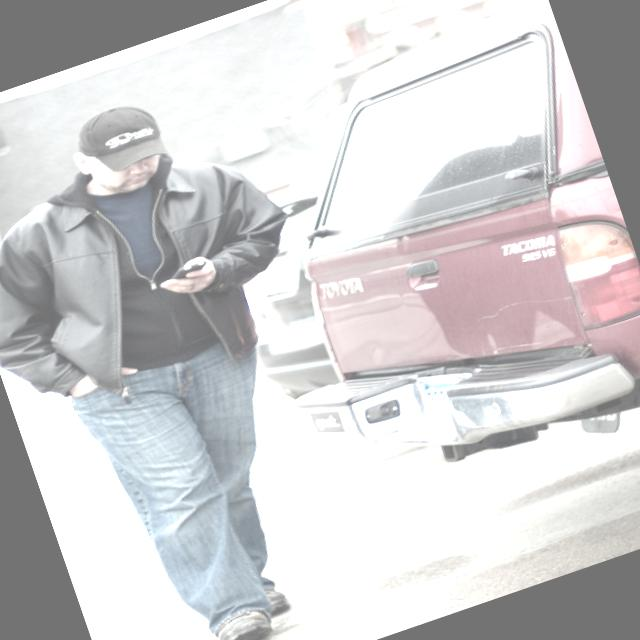Vehicle: (200, 0, 640, 548), (198, 130, 412, 406)
